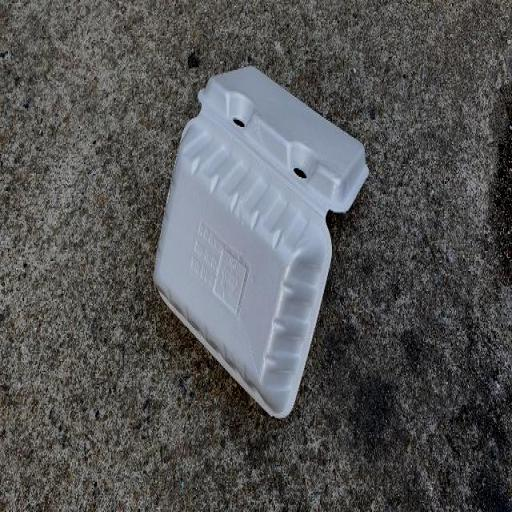styrofoam: (154, 67, 368, 416)
